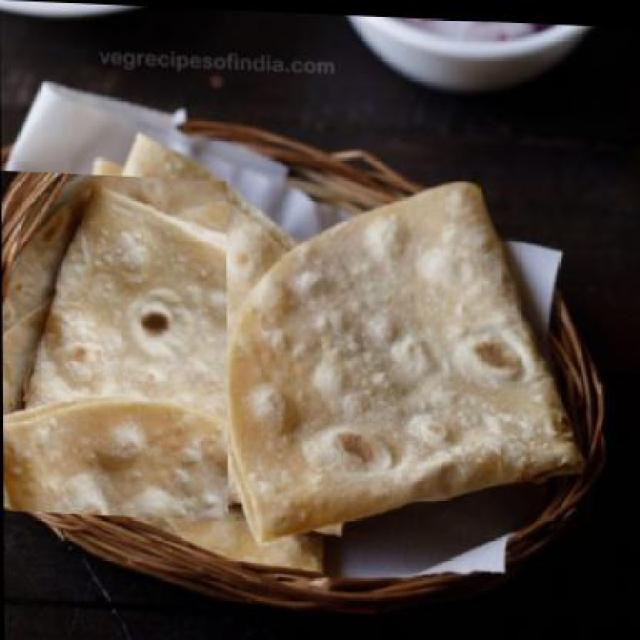chapati: (2, 148, 369, 549), (225, 168, 582, 549)
